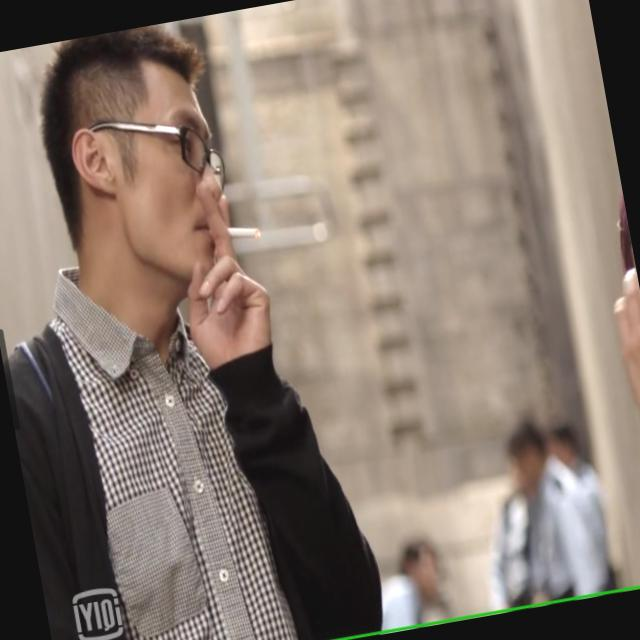cigarette: (230, 218, 268, 248)
